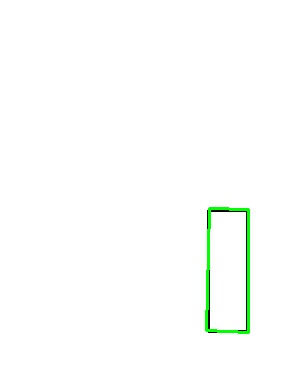line_segment: (206, 208, 250, 333)
